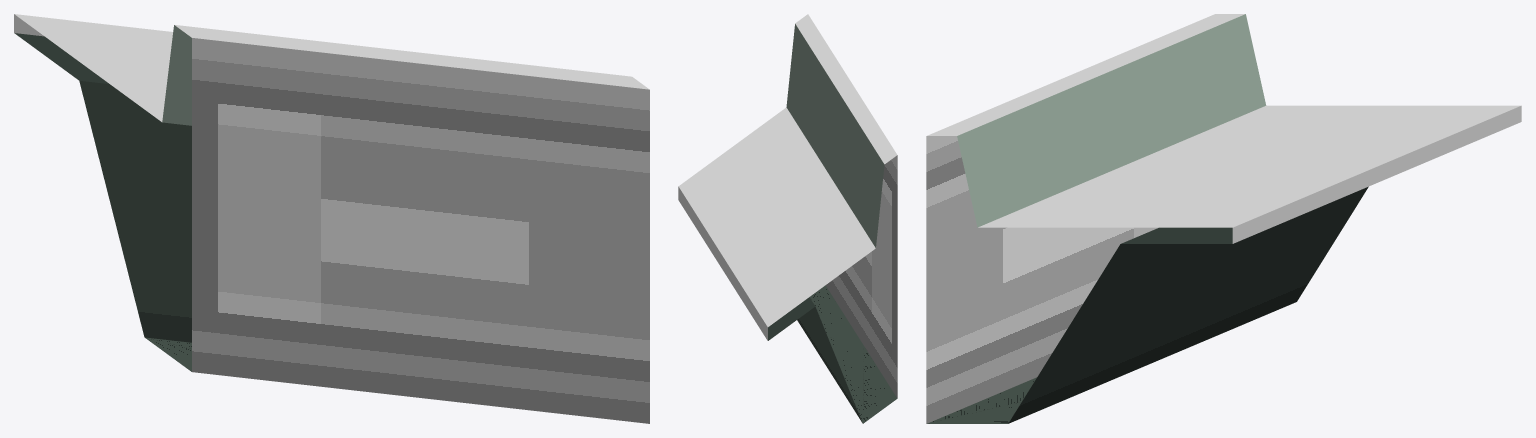
Rendered from run_desk_outside_unit_item.obj.
3 views of the same model, side by side, from view 1: azimuth 30°, elevation 25°; view 2: azimuth 150°, elevation 25°; view 3: azimuth 270°, elevation 25° (orthographic). The views are drawn at different scales.
Size of the model in its own units: 1 by 1.1 by 2.06.
